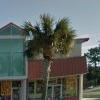Palm tree: (23, 12, 71, 99)
